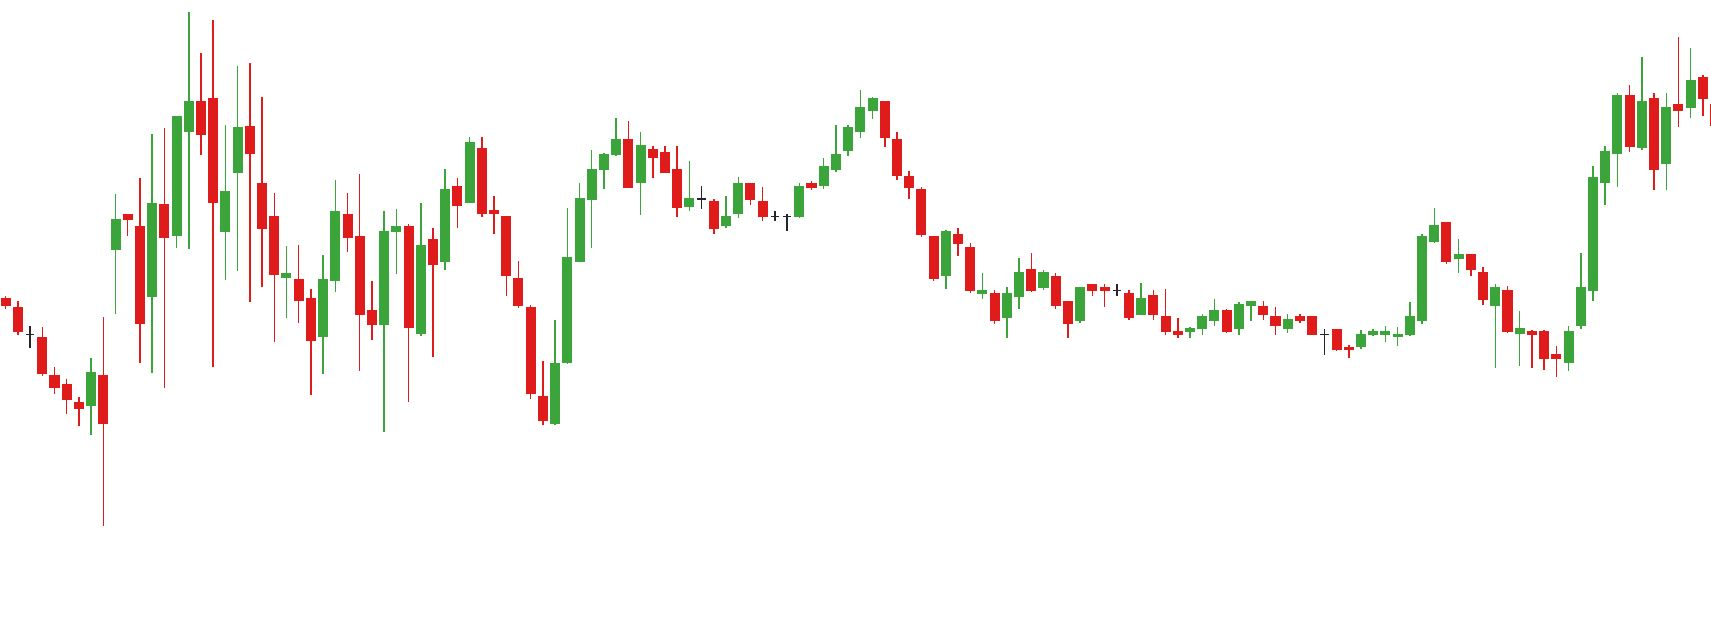sell: (608, 90, 890, 176)
